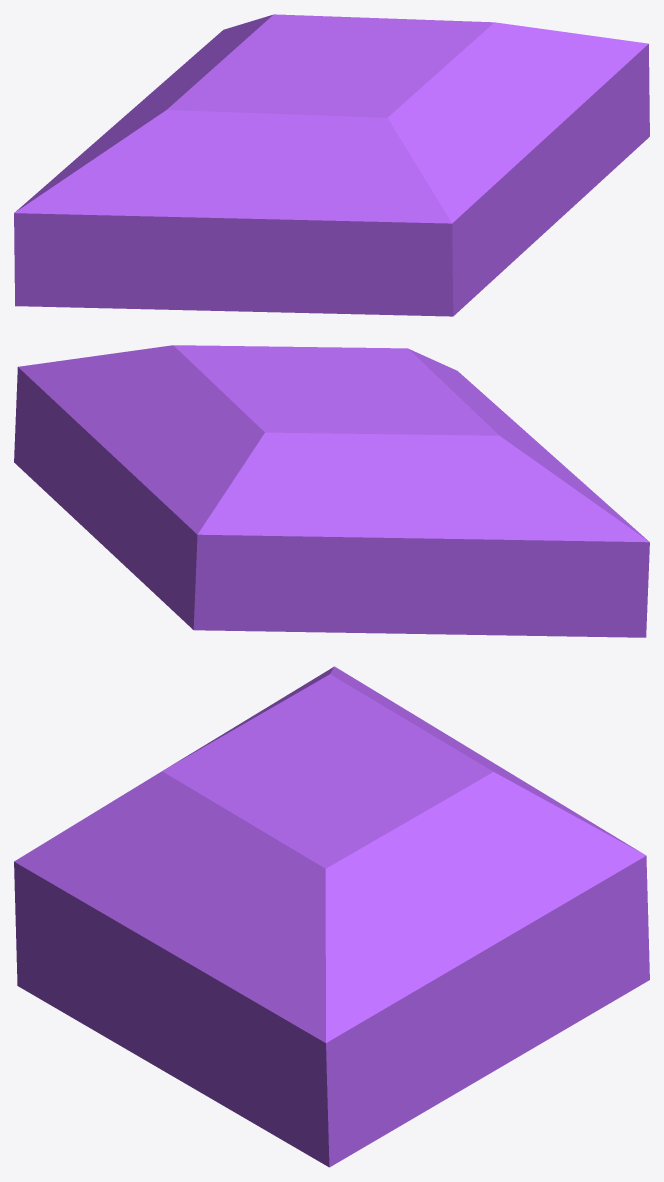
File: diamondgem.fbx
3 renders of one model, top to bottom at view 1: azimuth 30°, elevation 25°; view 2: azimuth 150°, elevation 25°; view 3: azimuth 270°, elevation 25°, orthographic. The views are drawn at different scales.
Visible parts, largest first — view 1: Gem; view 2: Gem; view 3: Gem.
Boxes of the visible parts, box(x1,y1,x2,y2) form: Gem: box(14, 14, 649, 316); Gem: box(14, 345, 649, 637); Gem: box(14, 666, 649, 1167).
Bounding box in the file's own units: 190 × 49.09 × 127.
